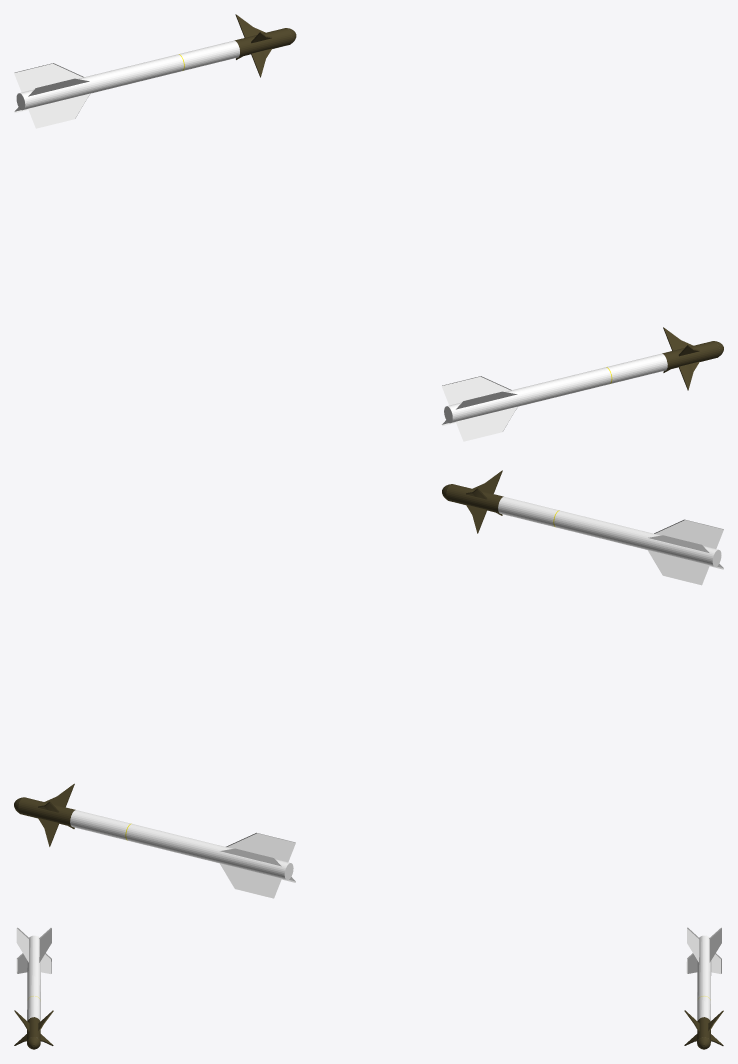
The model's file is f16caim925.glb.
3 views of the same model, one above another, from view 1: azimuth 30°, elevation 25°; view 2: azimuth 150°, elevation 25°; view 3: azimuth 270°, elevation 25° (orthographic). The views are drawn at different scales.
Parts seen in each view (by area): view 1: 円柱.004, 円柱.005; view 2: 円柱.005, 円柱.004; view 3: 円柱.005, 円柱.004.
Boxes of the visible parts, bbox=[...] form: 円柱.004: bbox=[14, 14, 296, 128]; 円柱.005: bbox=[441, 327, 723, 441]; 円柱.005: bbox=[442, 470, 723, 585]; 円柱.004: bbox=[14, 783, 295, 898]; 円柱.005: bbox=[14, 927, 53, 1049]; 円柱.004: bbox=[684, 927, 723, 1049].
Size of the model in its own units: 3.38 by 0.543 by 9.67.
Materials: 2 (2 with a texture image).
